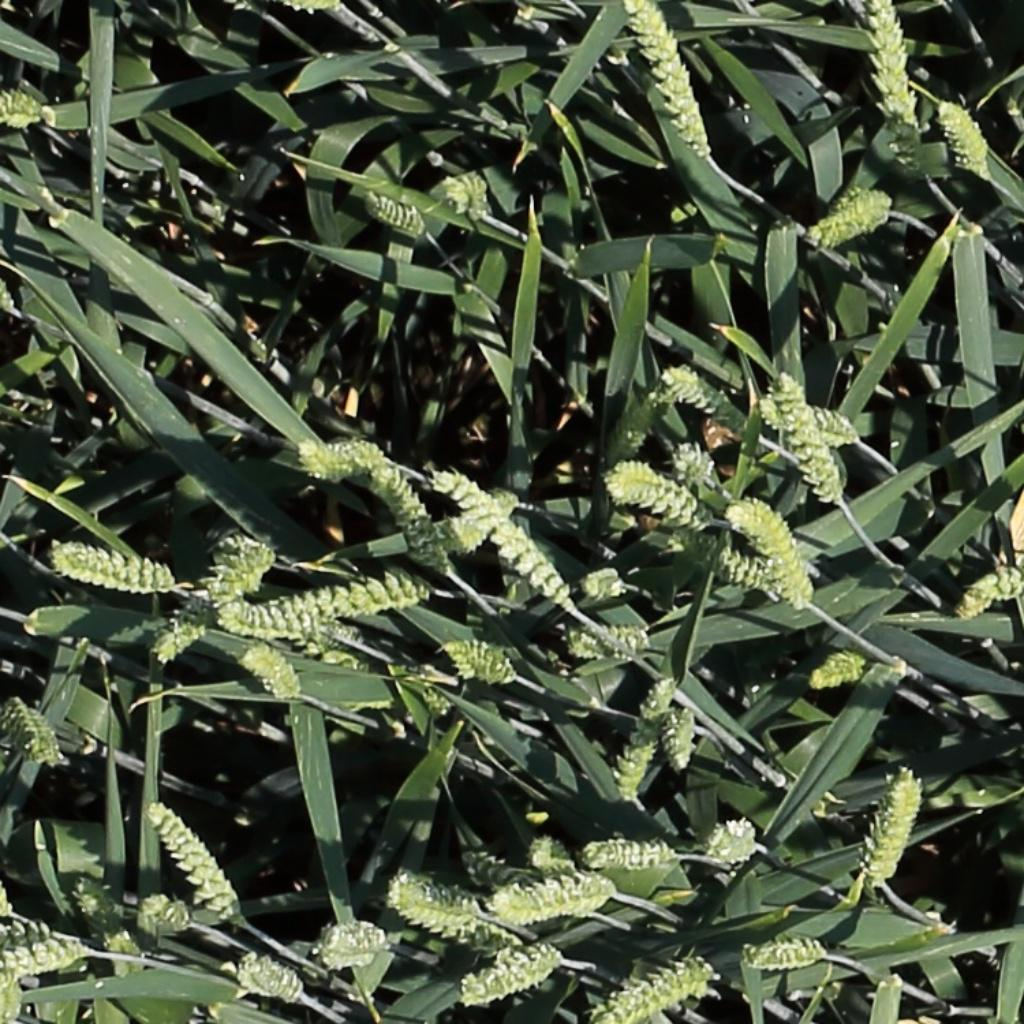0-0: (438, 457, 576, 603), (628, 0, 714, 162), (141, 797, 244, 924), (370, 454, 454, 577), (728, 496, 817, 612), (772, 370, 846, 507), (272, 569, 437, 626), (484, 866, 628, 931), (38, 534, 178, 600), (218, 604, 363, 664), (593, 457, 715, 527), (614, 675, 679, 806), (378, 868, 481, 949), (861, 0, 920, 129), (793, 186, 900, 257), (456, 944, 572, 1008), (658, 531, 766, 597), (868, 765, 921, 895), (555, 613, 660, 677), (602, 963, 715, 1021), (753, 393, 869, 444), (204, 527, 278, 600), (144, 594, 212, 672), (287, 437, 385, 490), (660, 357, 742, 420), (607, 386, 669, 469), (220, 952, 306, 1010), (447, 479, 529, 539), (935, 92, 992, 178), (703, 806, 772, 877), (305, 916, 394, 970), (5, 693, 65, 771), (63, 864, 125, 939), (439, 162, 507, 230), (0, 925, 87, 978), (585, 832, 680, 878), (744, 929, 830, 976), (664, 438, 730, 498), (241, 644, 303, 704), (801, 647, 867, 698), (529, 824, 585, 883), (445, 641, 517, 684), (364, 191, 430, 234), (3, 85, 59, 135), (966, 558, 1024, 604), (577, 562, 634, 605), (106, 927, 146, 985), (669, 703, 699, 780), (949, 586, 999, 629), (0, 909, 53, 946), (0, 974, 35, 1022), (141, 899, 189, 931)
